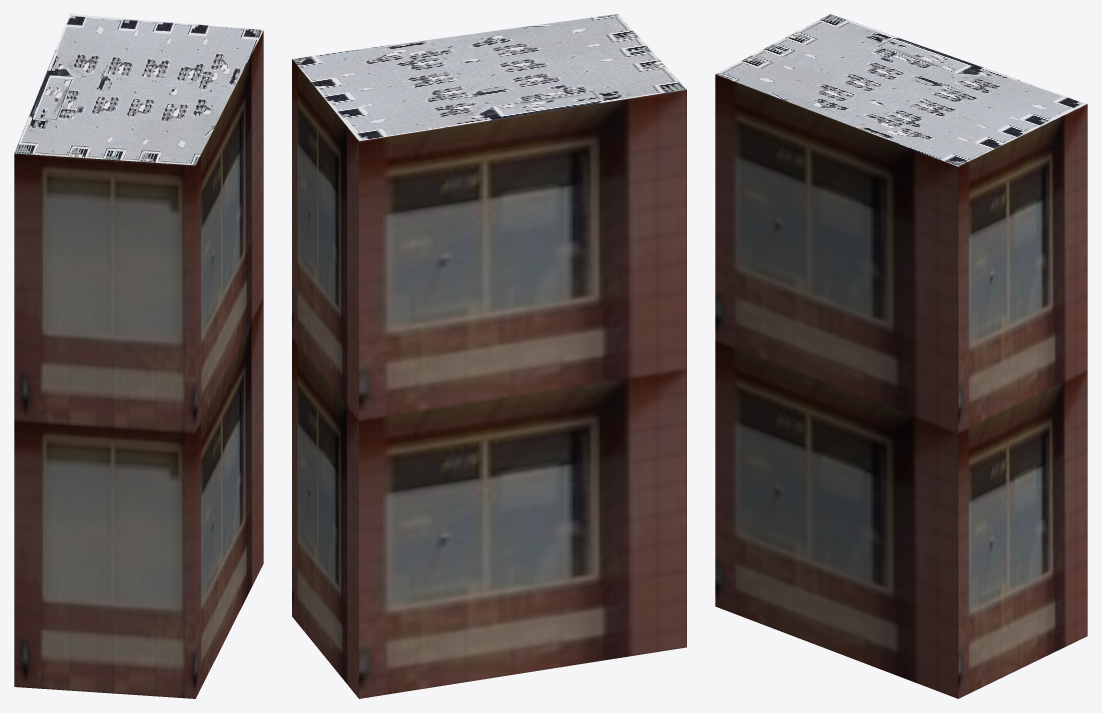
Rendered from ResTex__1155.fbx.
3 views of the same model, side by side, from view 1: azimuth 30°, elevation 25°; view 2: azimuth 150°, elevation 25°; view 3: azimuth 270°, elevation 25° (orthographic). The views are drawn at different scales.
Parts seen in each view (by area): view 1: CityEngineMaterial_13_m, CityEngineMaterial_m; view 2: CityEngineMaterial_13_m, CityEngineMaterial_m; view 3: CityEngineMaterial_13_m, CityEngineMaterial_m.
Part boxes in pixels (<box>): CityEngineMaterial_13_m: <box>14,31,263,698</box>; CityEngineMaterial_m: <box>14,14,263,165</box>; CityEngineMaterial_13_m: <box>292,59,686,698</box>; CityEngineMaterial_m: <box>292,14,686,141</box>; CityEngineMaterial_13_m: <box>715,74,1087,698</box>; CityEngineMaterial_m: <box>716,14,1086,166</box>.
Bounding box in the file's own units: 3.69 × 6 × 3.8.
Materials: 2 (2 with a texture image).
